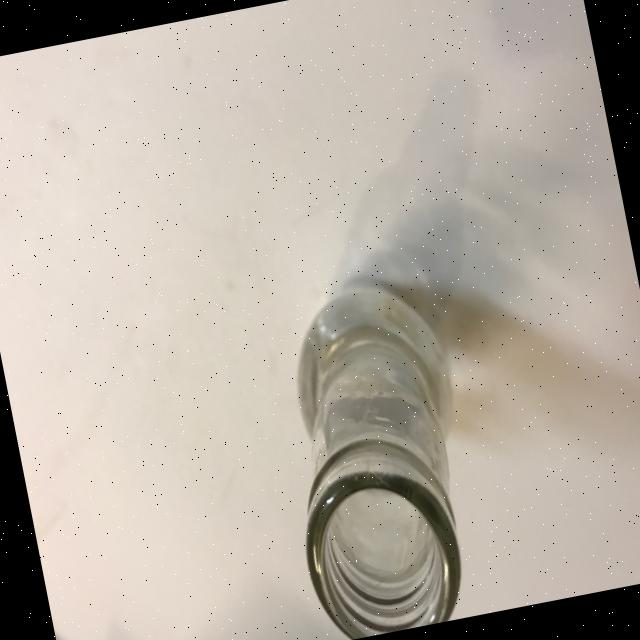glass: (254, 270, 493, 640)
